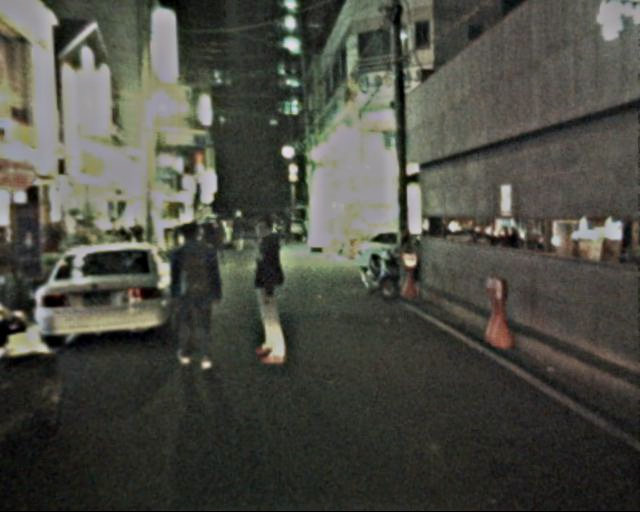person: (238, 220, 301, 366), (164, 221, 225, 367)
